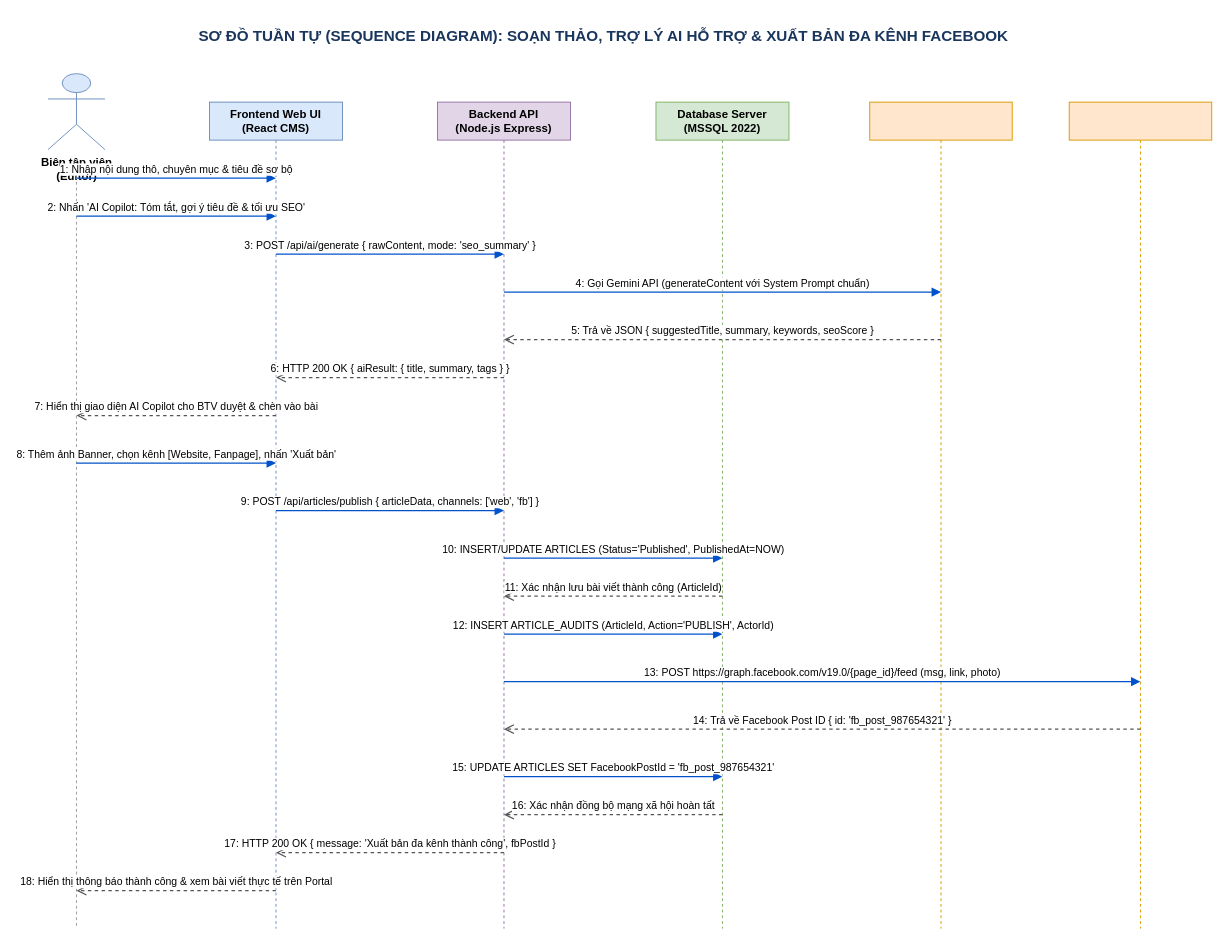
The diagram is 1228 pixels wide and 946 high, and some of its shapes have lost their labels. The shapes that lost their labels are listed below. From the top down, each one's box as (x1, y1, x2, y2) in pixels, then its label:
(869, 101, 1012, 929): Trợ lý AI API (Google Gemini Pro)
(1068, 101, 1212, 929): Meta Facebook API (Graph API v19.0)
